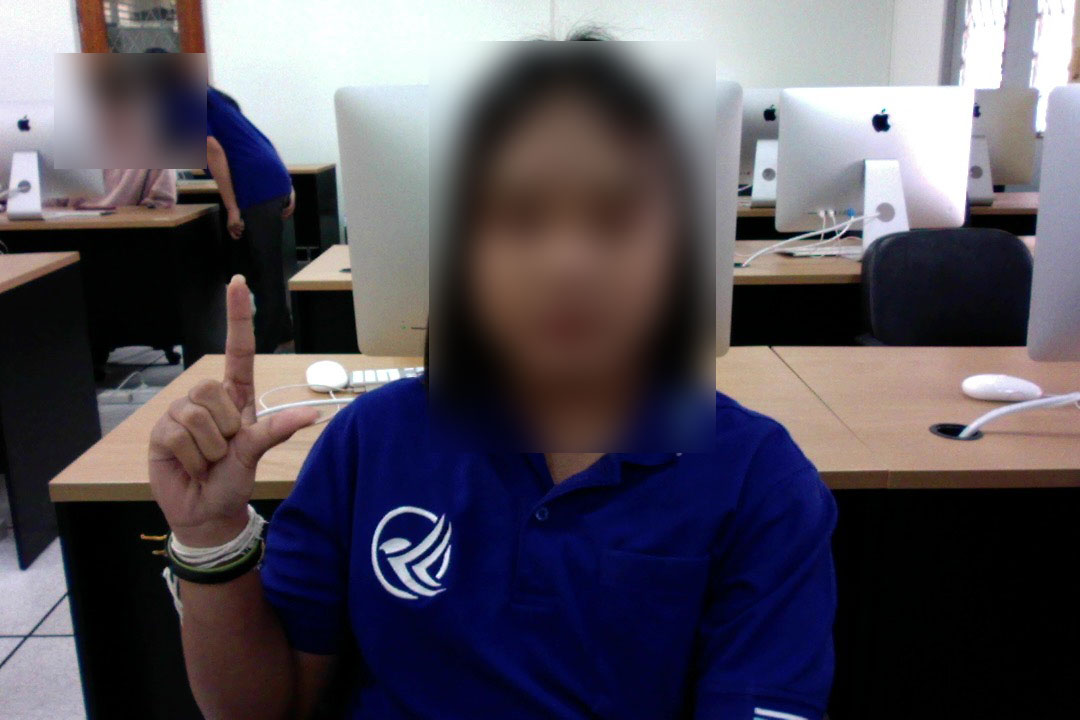lor: (133, 258, 331, 579)
